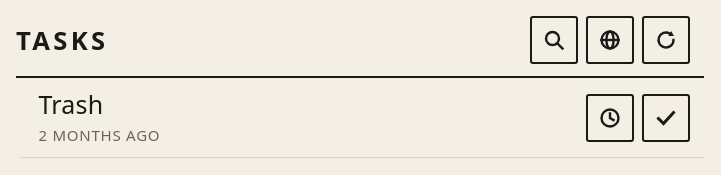
Test: App › puts the row back and sends nothing when the move is cancelled
This screenshot has width=721, height=175.
Click the button named "Reschedule Trash".
click(610, 118)  # box top-left (586, 94), bottom-right (634, 142)
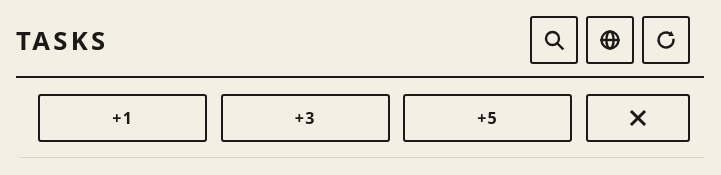
Click the button named "Cancel rescheduling Trash".
click(638, 118)  # box top-left (586, 94), bottom-right (690, 142)
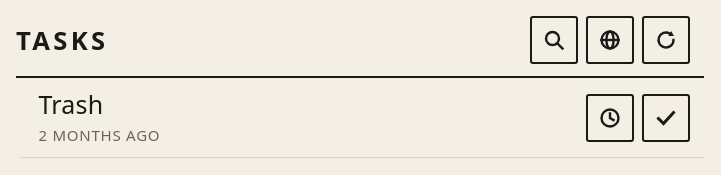
Result: the button named "Reschedule Trash" is enabled at top-left (586, 94), bottom-right (634, 142)
